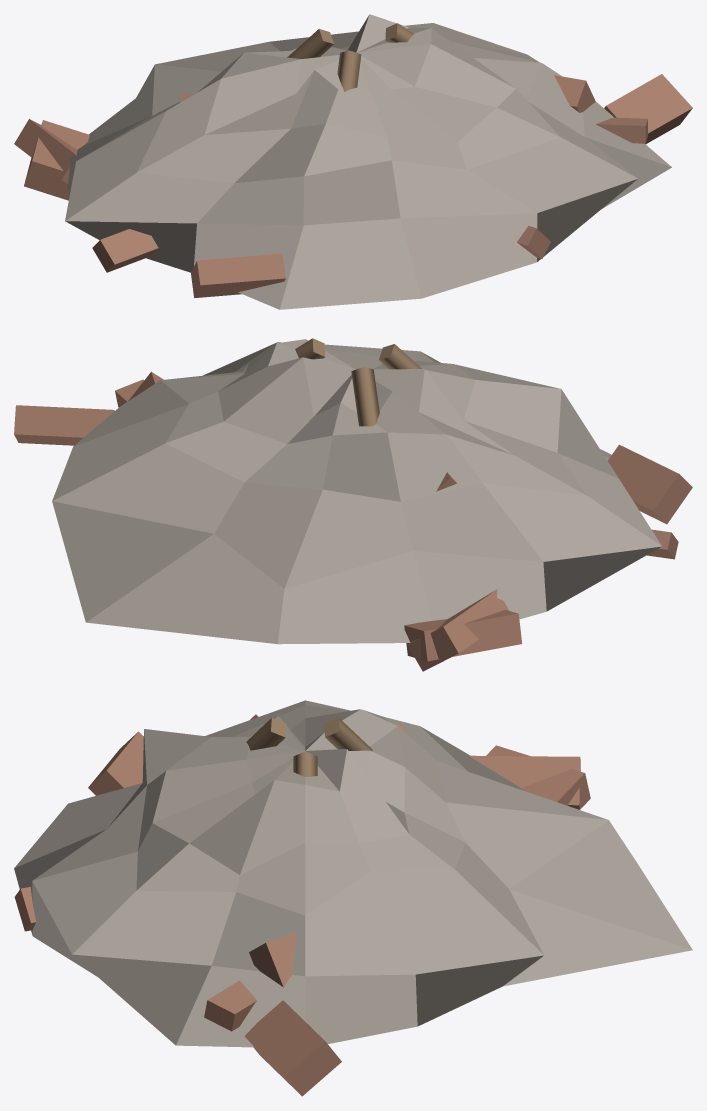
File: rubble_pile.glb
3 views of the same model, one above another, from view 1: azimuth 30°, elevation 25°; view 2: azimuth 150°, elevation 25°; view 3: azimuth 270°, elevation 25° (orthographic). The views are drawn at different scales.
Visible parts, largest first — view 1: rubble_pile; view 2: rubble_pile; view 3: rubble_pile.
Boxes of the visible parts, x1,y1,x2,y2 form: rubble_pile: (14,14,692,309); rubble_pile: (14,338,692,671); rubble_pile: (14,700,692,1096).
Size of the model in its own units: 5.27 by 1.4 by 4.44.
